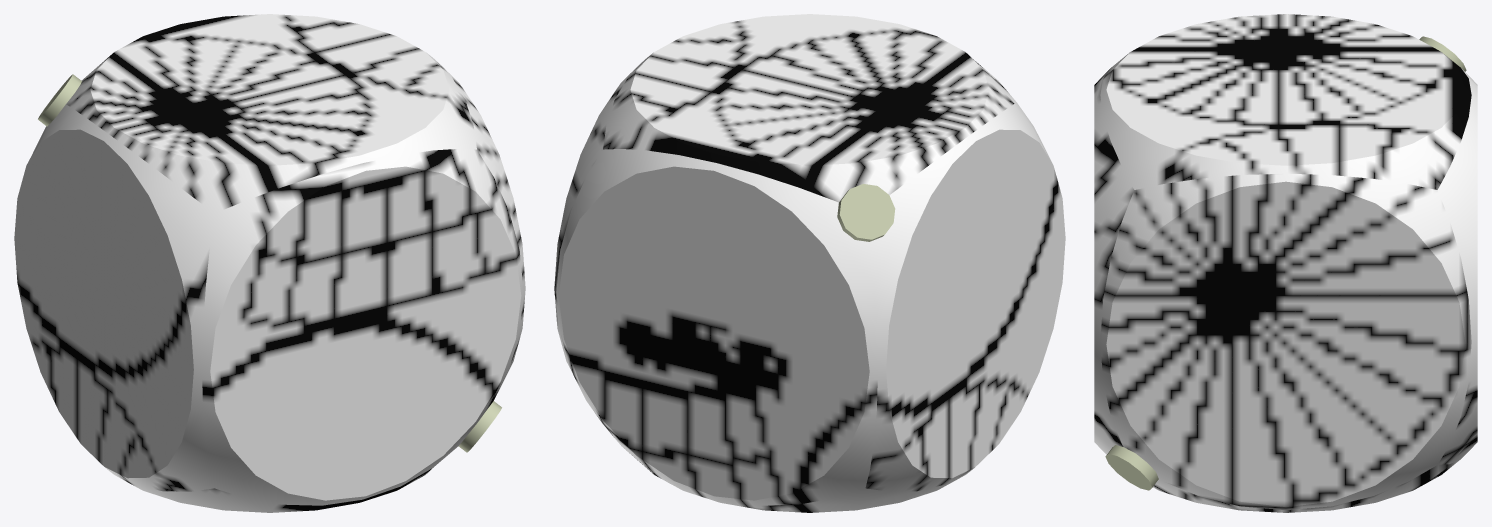
Rendered from eridani_node_s0p5_1_interior.obj.
The picture shows the model from 3 angles, left to right: view 1: azimuth 30°, elevation 25°; view 2: azimuth 150°, elevation 25°; view 3: azimuth 270°, elevation 25°; orthographic projection.
Visible parts, largest first — view 1: internal1, mask1; view 2: internal1, mask1; view 3: internal1, mask1.
Boxes of the visible parts, left/top/right/bottom form: internal1: left=14, top=14, right=525, bottom=512; mask1: left=38, top=74, right=501, bottom=452; internal1: left=554, top=14, right=1065, bottom=512; mask1: left=837, top=183, right=895, bottom=241; internal1: left=1094, top=14, right=1477, bottom=512; mask1: left=1105, top=36, right=1466, bottom=490.
Size of the model in its own units: 1 by 1 by 1.
Materials: 2 (1 with a texture image).
